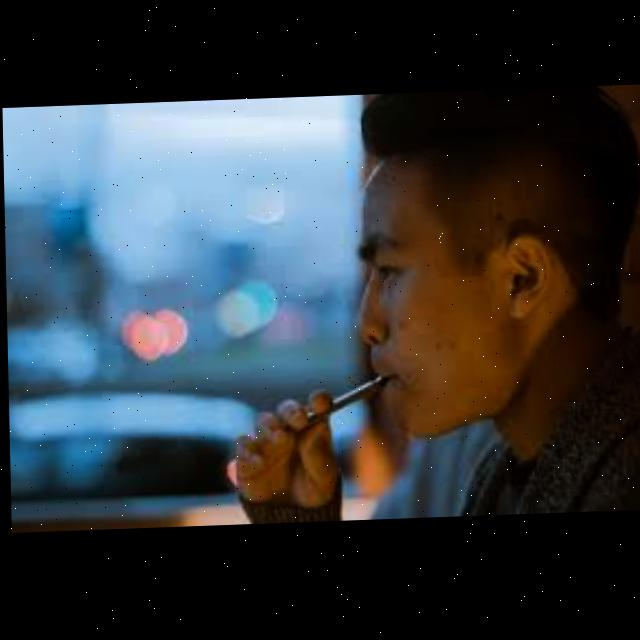vape: (302, 378, 386, 430)
